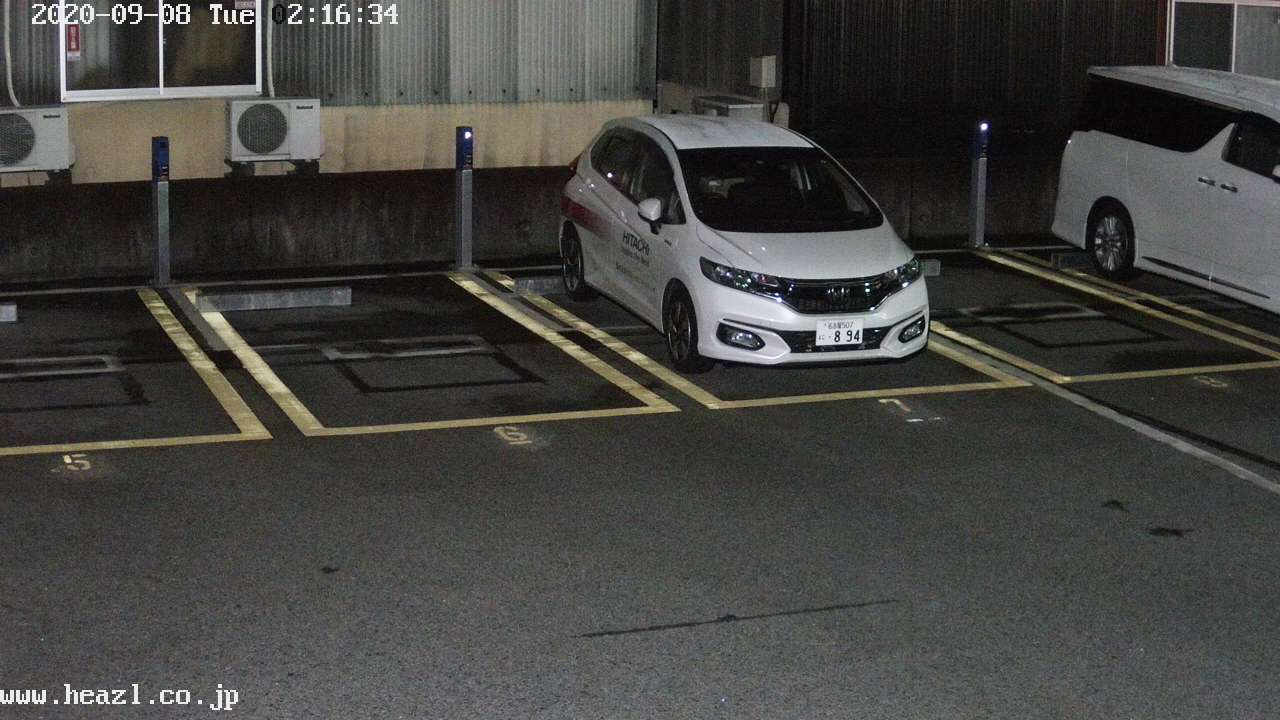number_plate: (815, 318, 864, 347)
